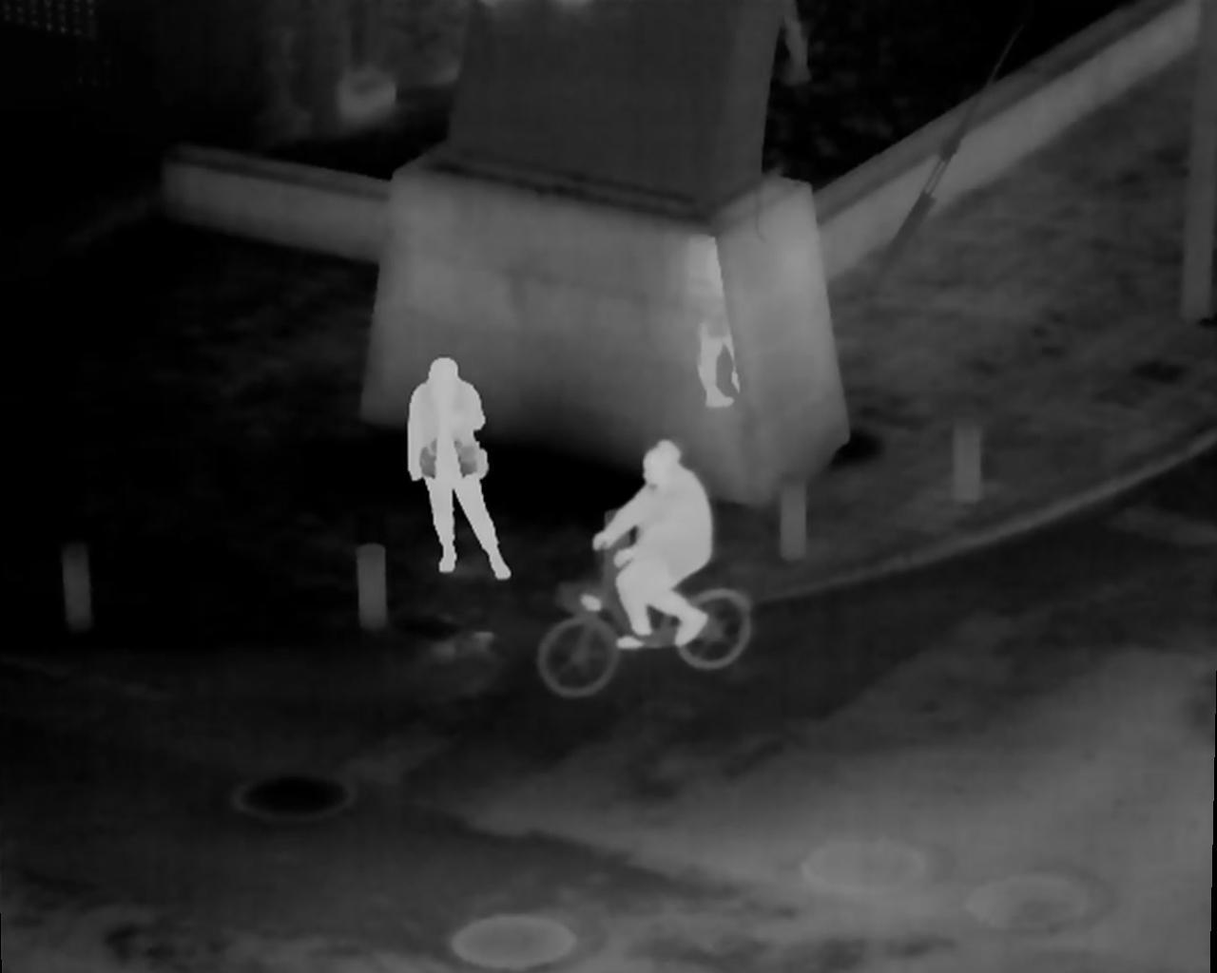person: (594, 433, 719, 655), (403, 355, 512, 583)
